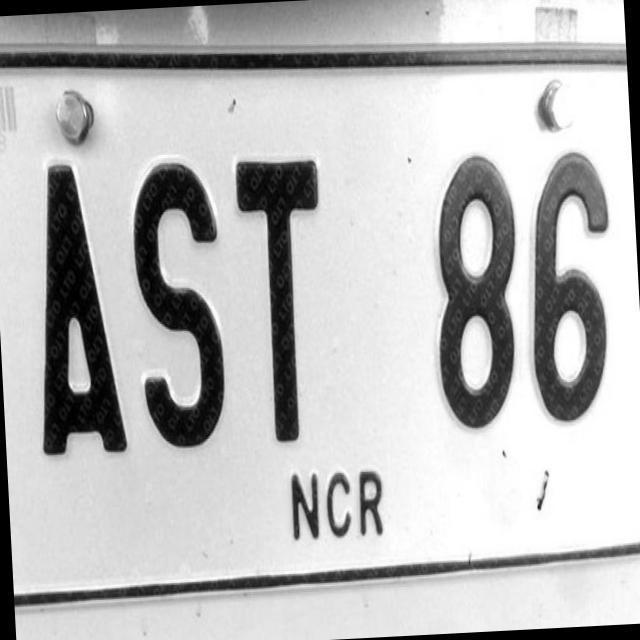6: (518, 143, 627, 438)
8: (428, 141, 528, 440)
A: (24, 154, 133, 476)
S: (129, 144, 241, 473)
T: (229, 142, 337, 460)
